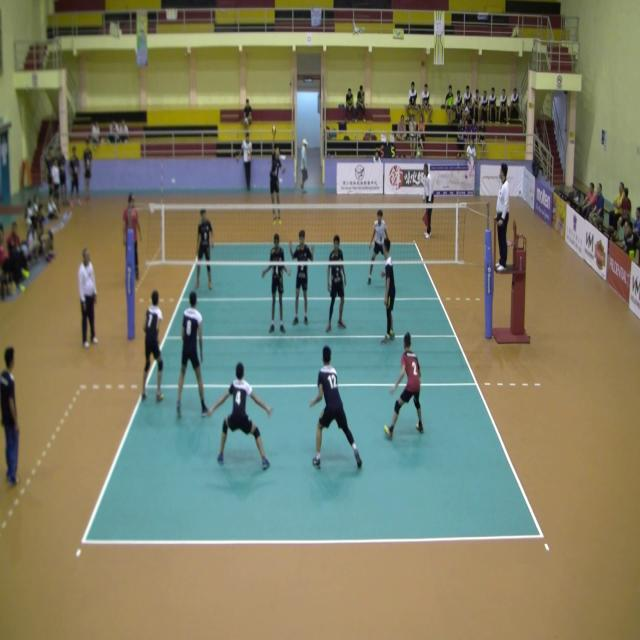body: (205, 360, 272, 470), (308, 344, 362, 471), (382, 330, 424, 441), (175, 291, 210, 418), (260, 232, 292, 334), (0, 344, 20, 488), (288, 228, 315, 326), (141, 290, 164, 402), (324, 234, 348, 332), (76, 245, 98, 348), (0, 224, 30, 294), (121, 192, 143, 284), (366, 208, 390, 286), (379, 236, 396, 346), (193, 206, 214, 292), (494, 162, 510, 274), (268, 127, 286, 226), (34, 205, 54, 262), (614, 187, 632, 241), (68, 145, 83, 209), (422, 162, 434, 240), (237, 132, 253, 190), (608, 180, 624, 238), (56, 145, 70, 209), (588, 182, 604, 231), (580, 182, 598, 220), (82, 138, 92, 204), (6, 222, 22, 260), (299, 136, 309, 196), (405, 80, 419, 122), (419, 83, 433, 125), (27, 222, 40, 264), (464, 136, 476, 180), (44, 153, 54, 205), (51, 157, 61, 205), (498, 87, 510, 126), (354, 84, 366, 122), (46, 191, 61, 221), (344, 87, 356, 124), (408, 114, 418, 158), (25, 198, 38, 231), (444, 84, 454, 125), (488, 87, 498, 126), (472, 88, 482, 126), (478, 118, 486, 161), (108, 117, 120, 145), (118, 116, 130, 144), (395, 114, 407, 142), (510, 87, 520, 120), (91, 118, 102, 147), (33, 194, 43, 224), (417, 114, 425, 151), (243, 98, 253, 126), (480, 90, 488, 125), (632, 206, 640, 239), (455, 90, 463, 121), (463, 84, 473, 108), (456, 118, 465, 142), (470, 118, 477, 148), (462, 119, 470, 140), (464, 97, 472, 112)
